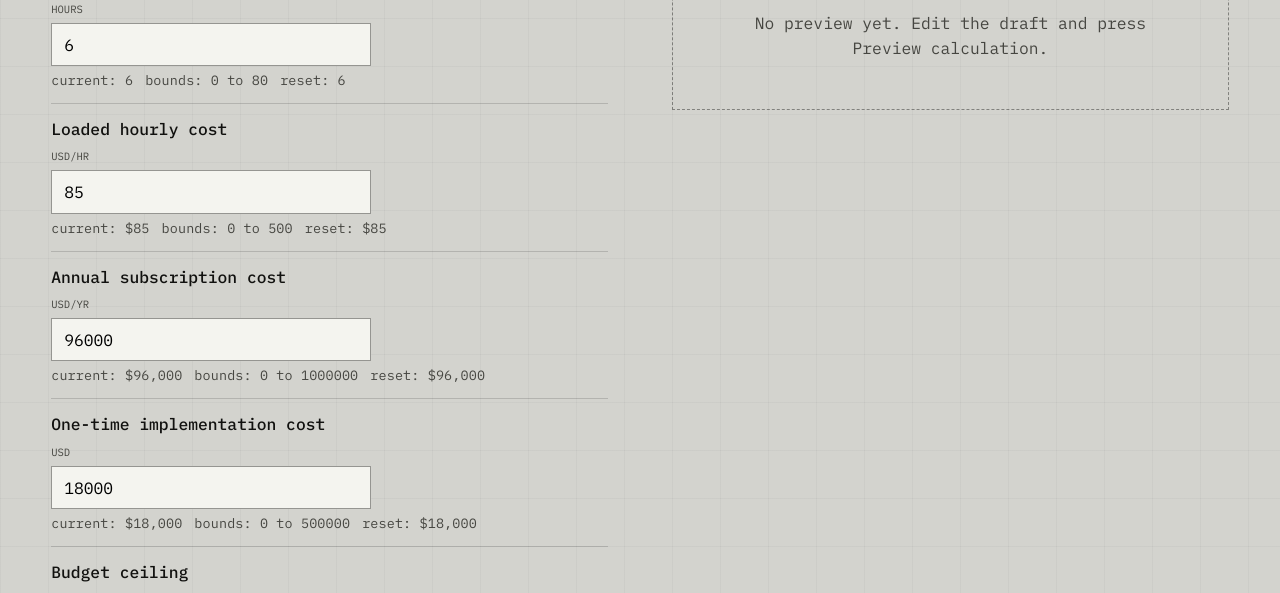
Test case: ROI workspace › shows budget warning when subscription exceeds ceiling
The image size is (1280, 593).
(page scrolled)
Replace the text in the number field labelled "Annual subscription cost" with "200000". click: (211, 340)
box: [51,318,371,361]
(page scrolled)
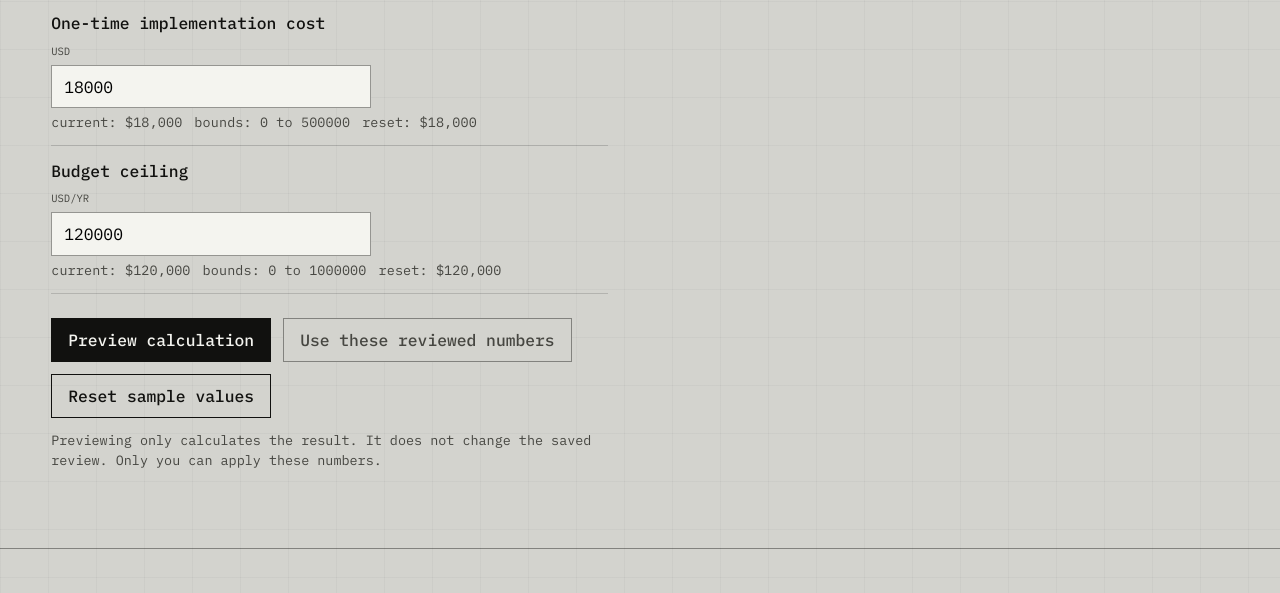
Click the button "Preview calculation". click: (161, 340)
box: [51,318,271,362]
(page scrolled)
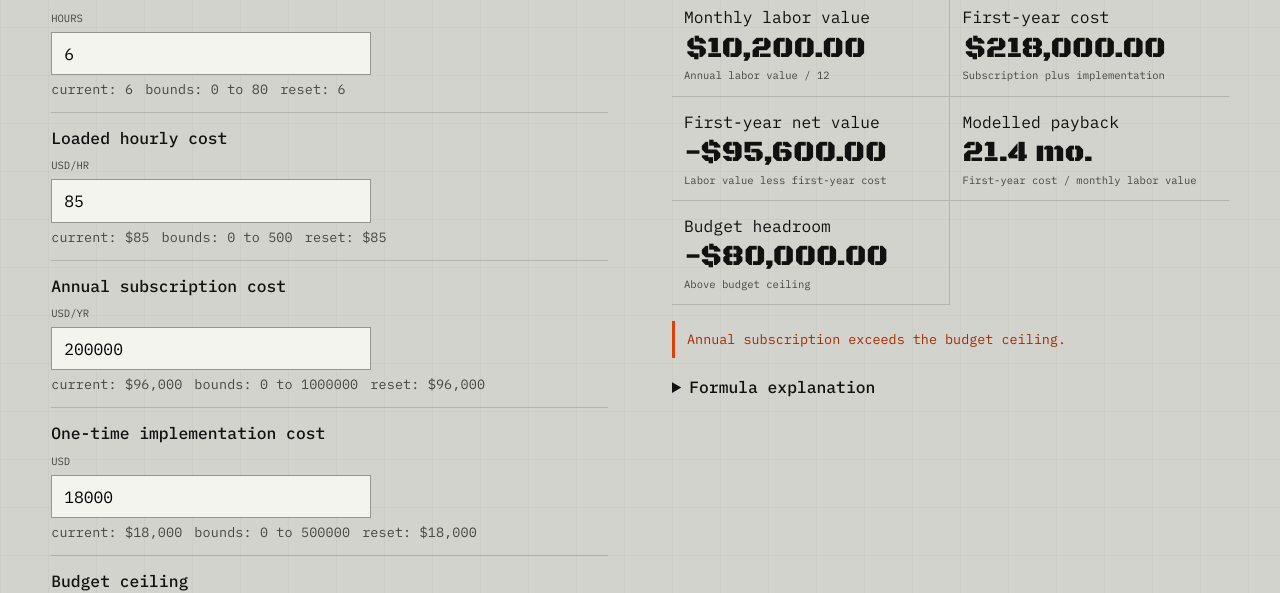
Result: the text "Annual subscription exceeds the budget ceiling." is shown at [672,321,1220,358]
